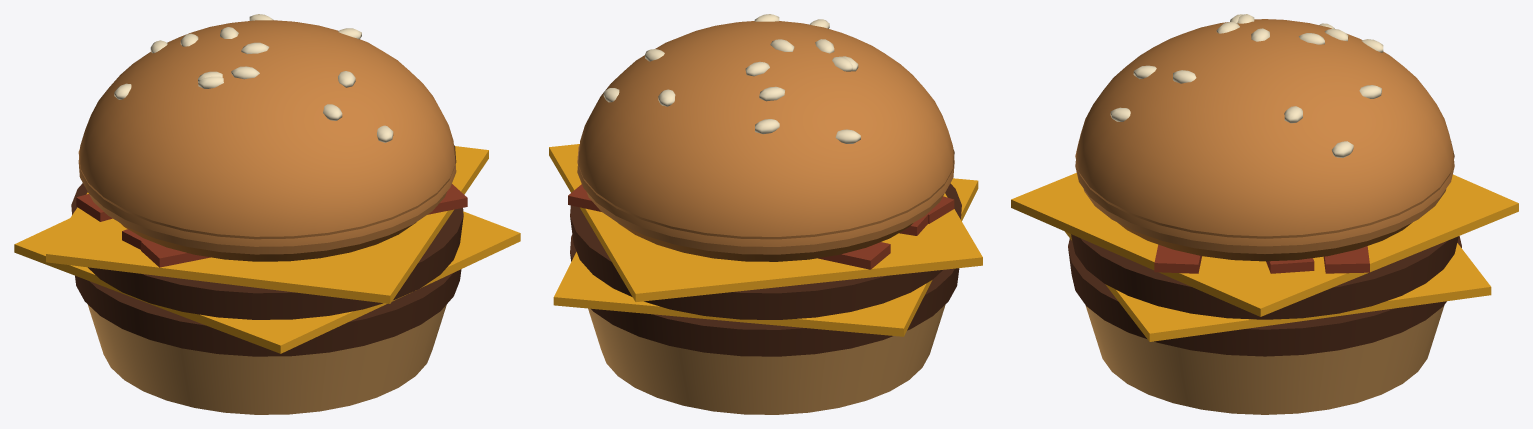
The model's file is burger-doble-dulce.glb.
3 views of the same model, side by side, from view 1: azimuth 30°, elevation 25°; view 2: azimuth 150°, elevation 25°; view 3: azimuth 270°, elevation 25° (orthographic).
Size of the model in its own units: 0.1888 by 0.126 by 0.1888.
